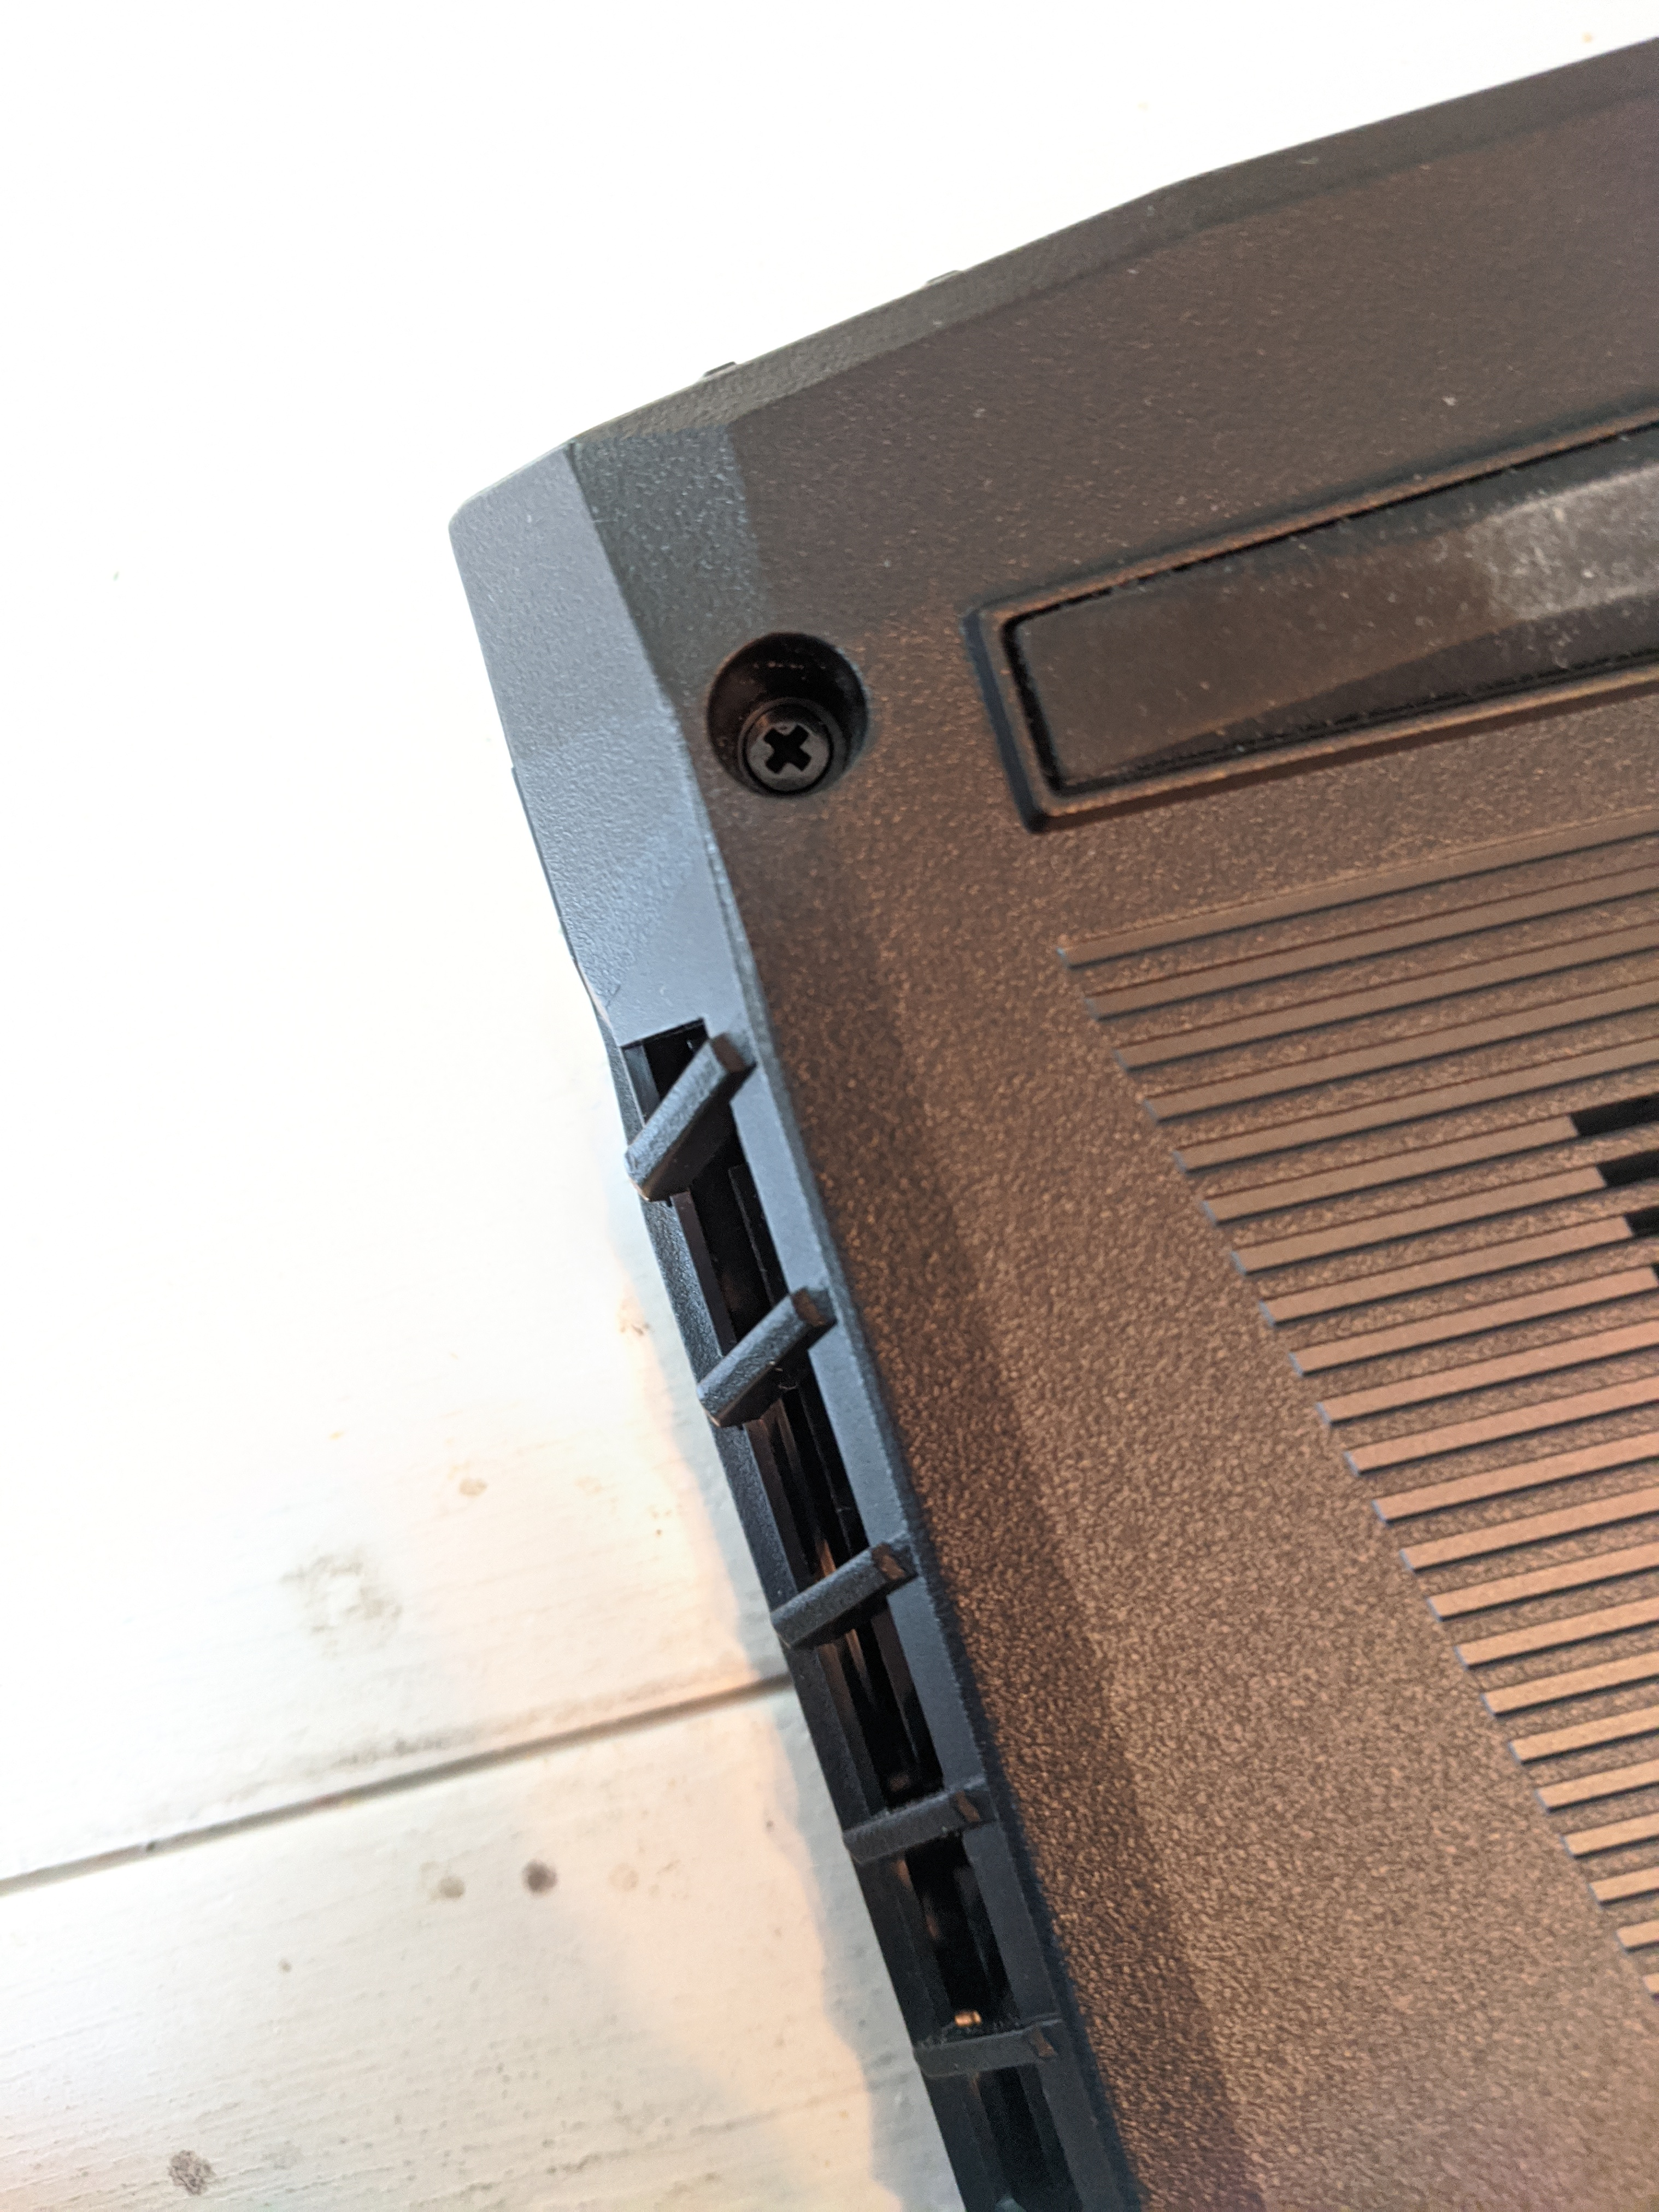cross_recessed_screw: (730, 691, 842, 791)
